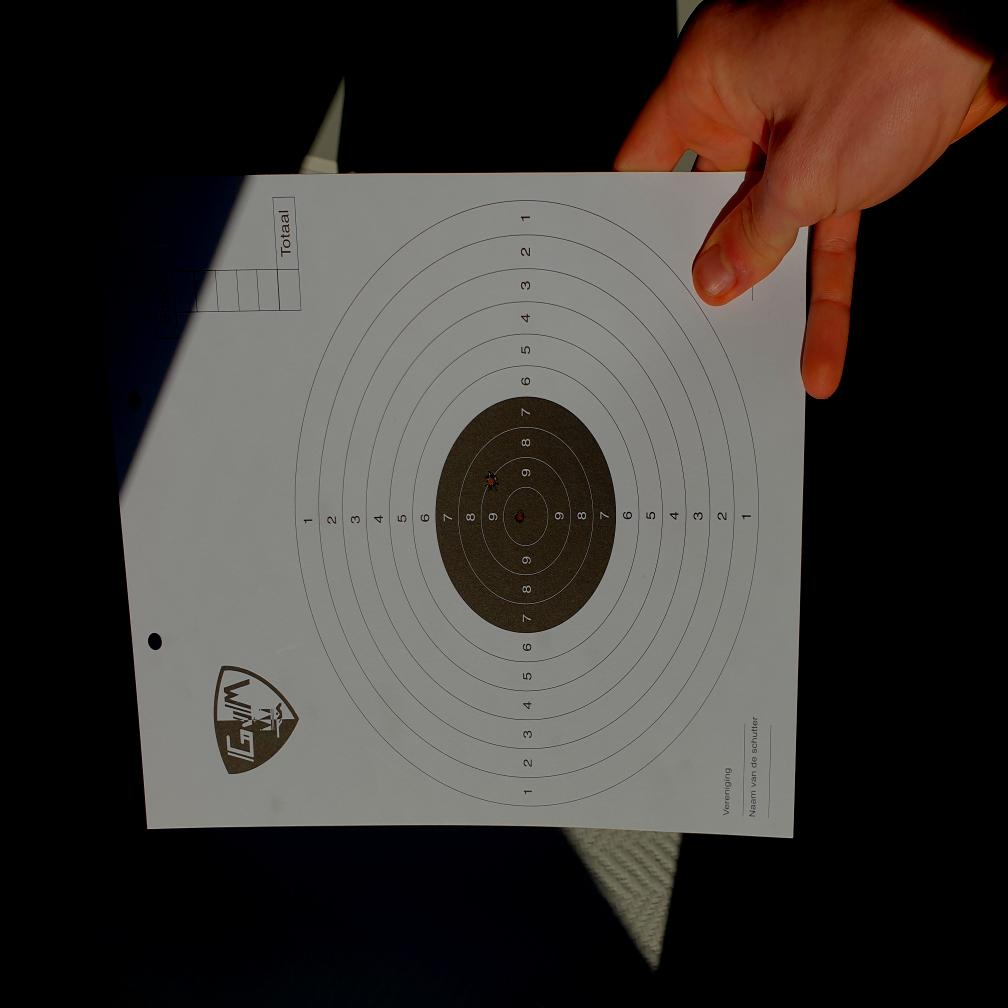10: (514, 508, 525, 524)
9: (483, 471, 500, 493)
Target: (292, 196, 761, 811)
black_contour: (435, 395, 617, 634)
